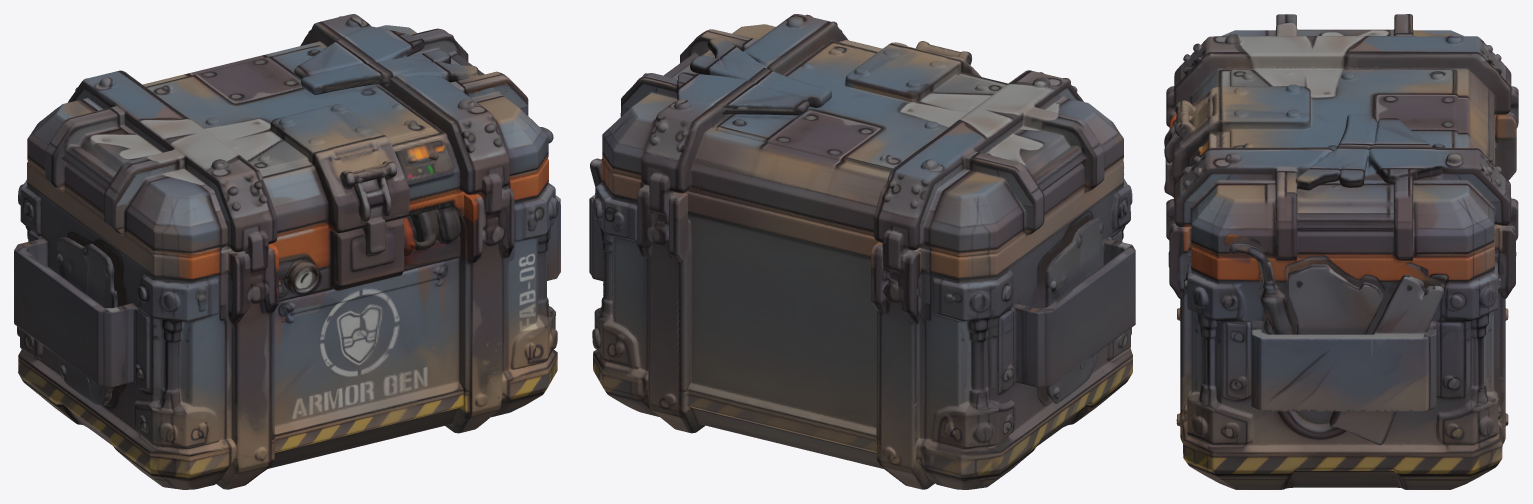
File: tripo_convert_727270e9-b281-41ea-8812-5432b606e640.fbx
3 renders of one model, left to right at view 1: azimuth 30°, elevation 25°; view 2: azimuth 150°, elevation 25°; view 3: azimuth 270°, elevation 25°, orthographic.
Parts seen in each view (by area): view 1: tripo_node_727270e9; view 2: tripo_node_727270e9; view 3: tripo_node_727270e9.
Part boxes in pixels (bbox=[...]): tripo_node_727270e9: bbox=[14, 14, 560, 489]; tripo_node_727270e9: bbox=[589, 14, 1135, 489]; tripo_node_727270e9: bbox=[1164, 14, 1518, 489].
Bounding box in the file's own units: 1 × 0.6718 × 0.6733.
1 material, 1 textured.
